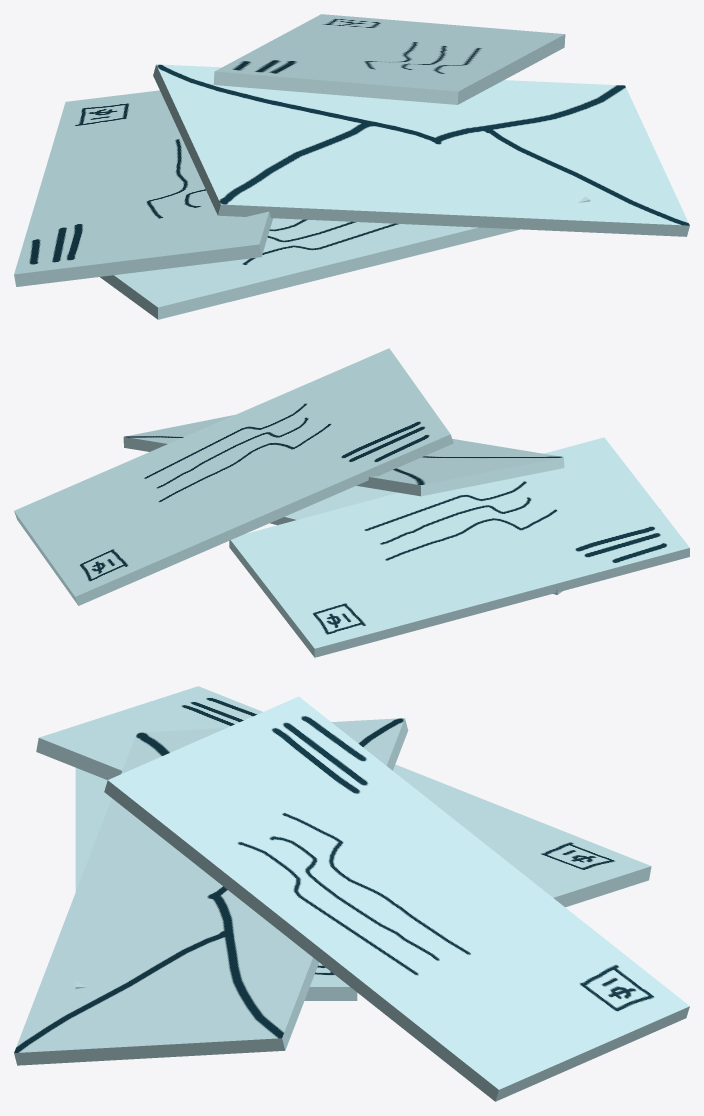
File: Envelopes.fbx
The picture shows the model from 3 angles, top to bottom: view 1: azimuth 30°, elevation 25°; view 2: azimuth 150°, elevation 25°; view 3: azimuth 270°, elevation 25°; orthographic projection. The views are drawn at different scales.
Visible parts, largest first — view 1: Cube.001, Cube.002, Cube.003, Cube; view 2: Cube.002, Cube.003, Cube.001, Cube; view 3: Cube.003, Cube.001, Cube.002, Cube.
Boxes of the visible parts, <box> form: Cube.001: <box>153,64,689,236</box>; Cube.002: <box>14,90,272,286</box>; Cube.003: <box>213,14,565,104</box>; Cube: <box>100,196,590,319</box>; Cube.002: <box>229,437,689,657</box>; Cube.003: <box>14,348,453,605</box>; Cube.001: <box>123,414,564,496</box>; Cube: <box>270,486,660,594</box>; Cube.003: <box>104,696,689,1101</box>; Cube.001: <box>14,718,408,1065</box>; Cube.002: <box>36,686,651,907</box>; Cube: <box>75,768,357,1000</box>.
Bounding box in the file's own units: 545 × 123 × 414.
Materials: 4 (4 with a texture image).
